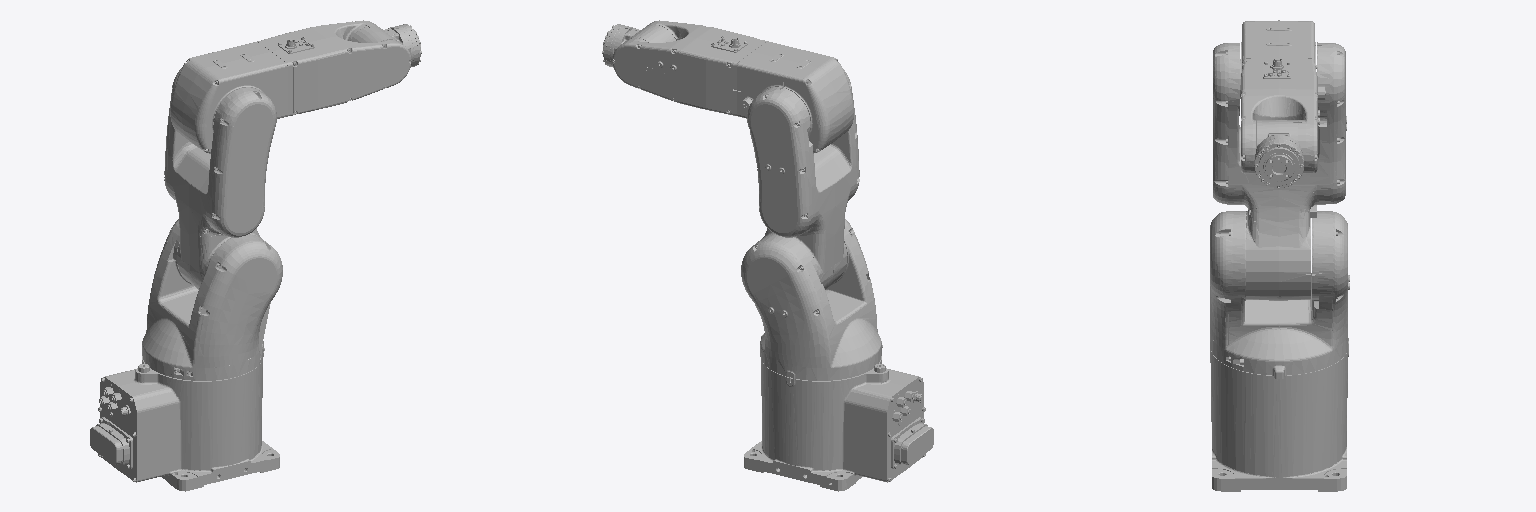
The robot description file, URDF, robot "xb4_description":
<?xml version="1.0" encoding="utf-8"?>
<!-- This URDF was automatically created by SolidWorks to URDF Exporter! Originally created by [author] ([email redacted]) 
     Commit Version: 1.5.1-0-g916b5db  Build Version: 1.5.7152.31018
     For more information, please see http://wiki.ros.org/sw_urdf_exporter -->
<robot
  name="xb4_description">
  <link
    name="base_link">
    <inertial>
      <origin
        xyz="-0.0245 1.2081E-05 0.087704"
        rpy="0 0 0" />
      <mass
        value="52.11" />
      <inertia
        ixx="0.24895"
        ixy="0.00013269"
        ixz="-0.0050593"
        iyy="0.3729"
        iyz="-3.2127E-05"
        izz="0.34855" />
    </inertial>
    <visual>
      <origin
        xyz="0 0 0"
        rpy="0 0 0" />
      <geometry>
        <mesh
          filename="package://xb4_description/meshes/base_link.STL" />
      </geometry>
      <material
        name="">
        <color
          rgba="0.75294 0.75294 0.75294 1" />
      </material>
    </visual>
    <collision>
      <origin
        xyz="0 0 0"
        rpy="0 0 0" />
      <geometry>
        <mesh
          filename="package://xb4_description/meshes/base_link.STL" />
      </geometry>
    </collision>
  </link>
  <link
    name="Link1">
    <inertial>
      <origin
        xyz="0.011449 0.00070297 0.079628"
        rpy="0 0 0" />
      <mass
        value="28.663" />
      <inertia
        ixx="0.209"
        ixy="-0.00046488"
        ixz="-0.026126"
        iyy="0.15579"
        iyz="-0.0012509"
        izz="0.15718" />
    </inertial>
    <visual>
      <origin
        xyz="0 0 0"
        rpy="0 0 0" />
      <geometry>
        <mesh
          filename="package://xb4_description/meshes/Link1.STL" />
      </geometry>
      <material
        name="">
        <color
          rgba="0.75294 0.75294 0.75294 1" />
      </material>
    </visual>
    <collision>
      <origin
        xyz="0 0 0"
        rpy="0 0 0" />
      <geometry>
        <mesh
          filename="package://xb4_description/meshes/Link1.STL" />
      </geometry>
    </collision>
  </link>
  <joint
    name="Joint1"
    type="revolute">
    <origin
      xyz="0.00098343 0 0.184"
      rpy="0 0 0" />
    <parent
      link="base_link" />
    <child
      link="Link1" />
    <axis
      xyz="0 0 1" />
    <limit
      lower="-3.14"
      upper="3.14"
      effort="20"
      velocity="40" />
  </joint>
  <link
    name="Link2">
    <inertial>
      <origin
        xyz="-0.010007 0.049583 0.11809"
        rpy="0 0 0" />
      <mass
        value="31.841" />
      <inertia
        ixx="0.38868"
        ixy="7.3853E-05"
        ixz="0.0047598"
        iyy="0.32881"
        iyz="-0.0043661"
        izz="0.1148" />
    </inertial>
    <visual>
      <origin
        xyz="0 0 0"
        rpy="0 0 0" />
      <geometry>
        <mesh
          filename="package://xb4_description/meshes/Link2.STL" />
      </geometry>
      <material
        name="">
        <color
          rgba="0.75294 0.75294 0.75294 1" />
      </material>
    </visual>
    <collision>
      <origin
        xyz="0 0 0"
        rpy="0 0 0" />
      <geometry>
        <mesh
          filename="package://xb4_description/meshes/Link2.STL" />
      </geometry>
    </collision>
  </link>
  <joint
    name="Joint2"
    type="revolute">
    <origin
      xyz="0.040007 -0.0495 0.155"
      rpy="0 0 0" />
    <parent
      link="Link1" />
    <child
      link="Link2" />
    <axis
      xyz="0 1 0" />
    <limit
      lower="-3.14"
      upper="3.14"
      effort="20"
      velocity="40" />
  </joint>
  <link
    name="Link3">
    <inertial>
      <origin
        xyz="0.0067255 0.056241 0.010623"
        rpy="0 0 0" />
      <mass
        value="15.368" />
      <inertia
        ixx="0.032143"
        ixy="-0.00018372"
        ixz="-0.0049172"
        iyy="0.048616"
        iyz="-5.9262E-05"
        izz="0.044126" />
    </inertial>
    <visual>
      <origin
        xyz="0 0 0"
        rpy="0 0 0" />
      <geometry>
        <mesh
          filename="package://xb4_description/meshes/Link3.STL" />
      </geometry>
      <material
        name="">
        <color
          rgba="0.75294 0.75294 0.75294 1" />
      </material>
    </visual>
    <collision>
      <origin
        xyz="0 0 0"
        rpy="0 0 0" />
      <geometry>
        <mesh
          filename="package://xb4_description/meshes/Link3.STL" />
      </geometry>
    </collision>
  </link>
  <joint
    name="Joint3"
    type="revolute">
    <origin
      xyz="0 -0.008 0.275"
      rpy="0 0 0" />
    <parent
      link="Link2" />
    <child
      link="Link3" />
    <axis
      xyz="0 1 0" />
    <limit
      lower="-3.14"
      upper="3.14"
      effort="20"
      velocity="40" />
  </joint>
  <link
    name="Link4">
    <inertial>
      <origin
        xyz="0.080048 0.00019844 0.00018069"
        rpy="0 0 0" />
      <mass
        value="13.118" />
      <inertia
        ixx="0.023976"
        ixy="-0.0005894"
        ixz="0.00011166"
        iyy="0.049908"
        iyz="5.1715E-06"
        izz="0.055207" />
    </inertial>
    <visual>
      <origin
        xyz="0 0 0"
        rpy="0 0 0" />
      <geometry>
        <mesh
          filename="package://xb4_description/meshes/Link4.STL" />
      </geometry>
      <material
        name="">
        <color
          rgba="0.75294 0.75294 0.75294 1" />
      </material>
    </visual>
    <collision>
      <origin
        xyz="0 0 0"
        rpy="0 0 0" />
      <geometry>
        <mesh
          filename="package://xb4_description/meshes/Link4.STL" />
      </geometry>
    </collision>
  </link>
  <joint
    name="Joint4"
    type="revolute">
    <origin
      xyz="0.09718 0.0575 0.024999"
      rpy="0 0 0" />
    <parent
      link="Link3" />
    <child
      link="Link4" />
    <axis
      xyz="1 0 0" />
    <limit
      lower="-3.14"
      upper="3.14"
      effort="20"
      velocity="40" />
  </joint>
  <link
    name="Link5">
    <inertial>
      <origin
        xyz="0.014859 -0.033648 7.8205E-05"
        rpy="0 0 0" />
      <mass
        value="3.0282" />
      <inertia
        ixx="0.0019642"
        ixy="-4.6957E-05"
        ixz="-3.4436E-06"
        iyy="0.0034401"
        iyz="-1.1677E-07"
        izz="0.0033234" />
    </inertial>
    <visual>
      <origin
        xyz="0 0 0"
        rpy="0 0 0" />
      <geometry>
        <mesh
          filename="package://xb4_description/meshes/Link5.STL" />
      </geometry>
      <material
        name="">
        <color
          rgba="0.75294 0.75294 0.75294 1" />
      </material>
    </visual>
    <collision>
      <origin
        xyz="0 0 0"
        rpy="0 0 0" />
      <geometry>
        <mesh
          filename="package://xb4_description/meshes/Link5.STL" />
      </geometry>
    </collision>
  </link>
  <joint
    name="Joint5"
    type="revolute">
    <origin
      xyz="0.18282 0.0325 0"
      rpy="0 0 0" />
    <parent
      link="Link4" />
    <child
      link="Link5" />
    <axis
      xyz="0 1 0" />
    <limit
      lower="-3.14"
      upper="3.14"
      effort="20"
      velocity="40" />
  </joint>
  <link
    name="Link6">
    <inertial>
      <origin
        xyz="0.0045911 5.7515E-08 -0.0002189"
        rpy="0 0 0" />
      <mass
        value="0.077253" />
      <inertia
        ixx="1.734E-05"
        ixy="2.7594E-20"
        ixz="3.2231E-08"
        iyy="9.1859E-06"
        iyz="2.296E-19"
        izz="9.4556E-06" />
    </inertial>
    <visual>
      <origin
        xyz="0 0 0"
        rpy="0 0 0" />
      <geometry>
        <mesh
          filename="package://xb4_description/meshes/Link6.STL" />
      </geometry>
      <material
        name="">
        <color
          rgba="0.75294 0.75294 0.75294 1" />
      </material>
    </visual>
    <collision>
      <origin
        xyz="0 0 0"
        rpy="0 0 0" />
      <geometry>
        <mesh
          filename="package://xb4_description/meshes/Link6.STL" />
      </geometry>
    </collision>
  </link>
  <joint
    name="Joint6"
    type="revolute">
    <origin
      xyz="0.063 -0.0325 0"
      rpy="0 0 0" />
    <parent
      link="Link5" />
    <child
      link="Link6" />
    <axis
      xyz="1 0 0" />
    <limit
      lower="-3.14"
      upper="3.14"
      effort="20"
      velocity="40" />
  </joint>
</robot>

--- What the picture shows (computed from the rendered views, not written in the file) ---
3 views of the same robot in one strip: view 1: azimuth 30°, elevation 25°; view 2: azimuth 150°, elevation 25°; view 3: azimuth 270°, elevation 25° (orthographic).
Model xb4_description with 7 links and 6 joints (6 revolute), rooted at base_link, posed every joint at zero.
Visible links, largest first — view 1: base_link, Link1, Link2, Link4, Link3, Link5; view 2: base_link, Link1, Link2, Link4, Link3, Link5; view 3: Link2, base_link, Link1, Link4, Link3, Link5, Link6.
Link boxes in pixels (bbox=[...]): base_link: bbox=[90, 356, 279, 491]; Link1: bbox=[142, 219, 282, 380]; Link2: bbox=[164, 68, 276, 289]; Link4: bbox=[257, 20, 411, 116]; Link3: bbox=[170, 42, 287, 153]; Link5: bbox=[350, 24, 421, 67]; base_link: bbox=[744, 356, 933, 491]; Link1: bbox=[741, 219, 882, 380]; Link2: bbox=[747, 69, 859, 289]; Link4: bbox=[612, 20, 766, 115]; Link3: bbox=[737, 41, 853, 152]; Link5: bbox=[602, 24, 675, 67]; Link2: bbox=[1213, 42, 1346, 300]; base_link: bbox=[1210, 349, 1348, 491]; Link1: bbox=[1210, 211, 1349, 378]; Link4: bbox=[1241, 58, 1319, 173]; Link3: bbox=[1240, 20, 1325, 99]; Link5: bbox=[1254, 120, 1303, 188]; Link6: bbox=[1265, 155, 1292, 180].
Size in the robot's own frame: 0.5782 by 0.197 by 0.705 metres.
Meshes: 7 distinct files referenced, 7 mesh visuals loaded (7 binary STL).